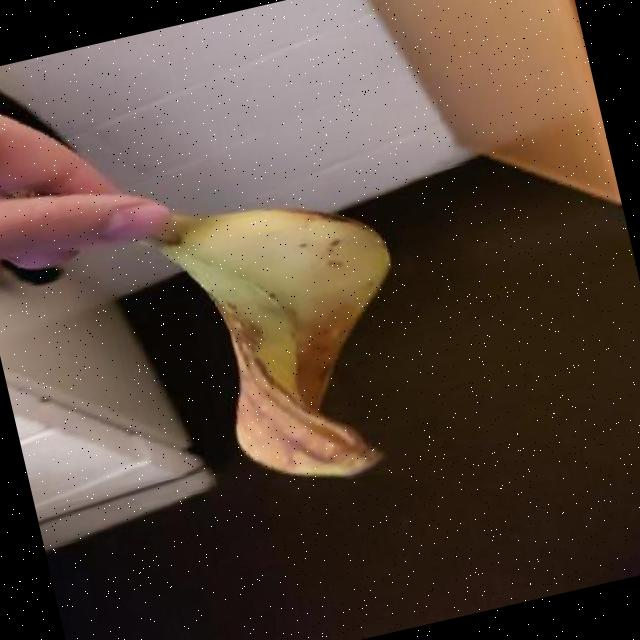banana-peel: (134, 161, 438, 511)
